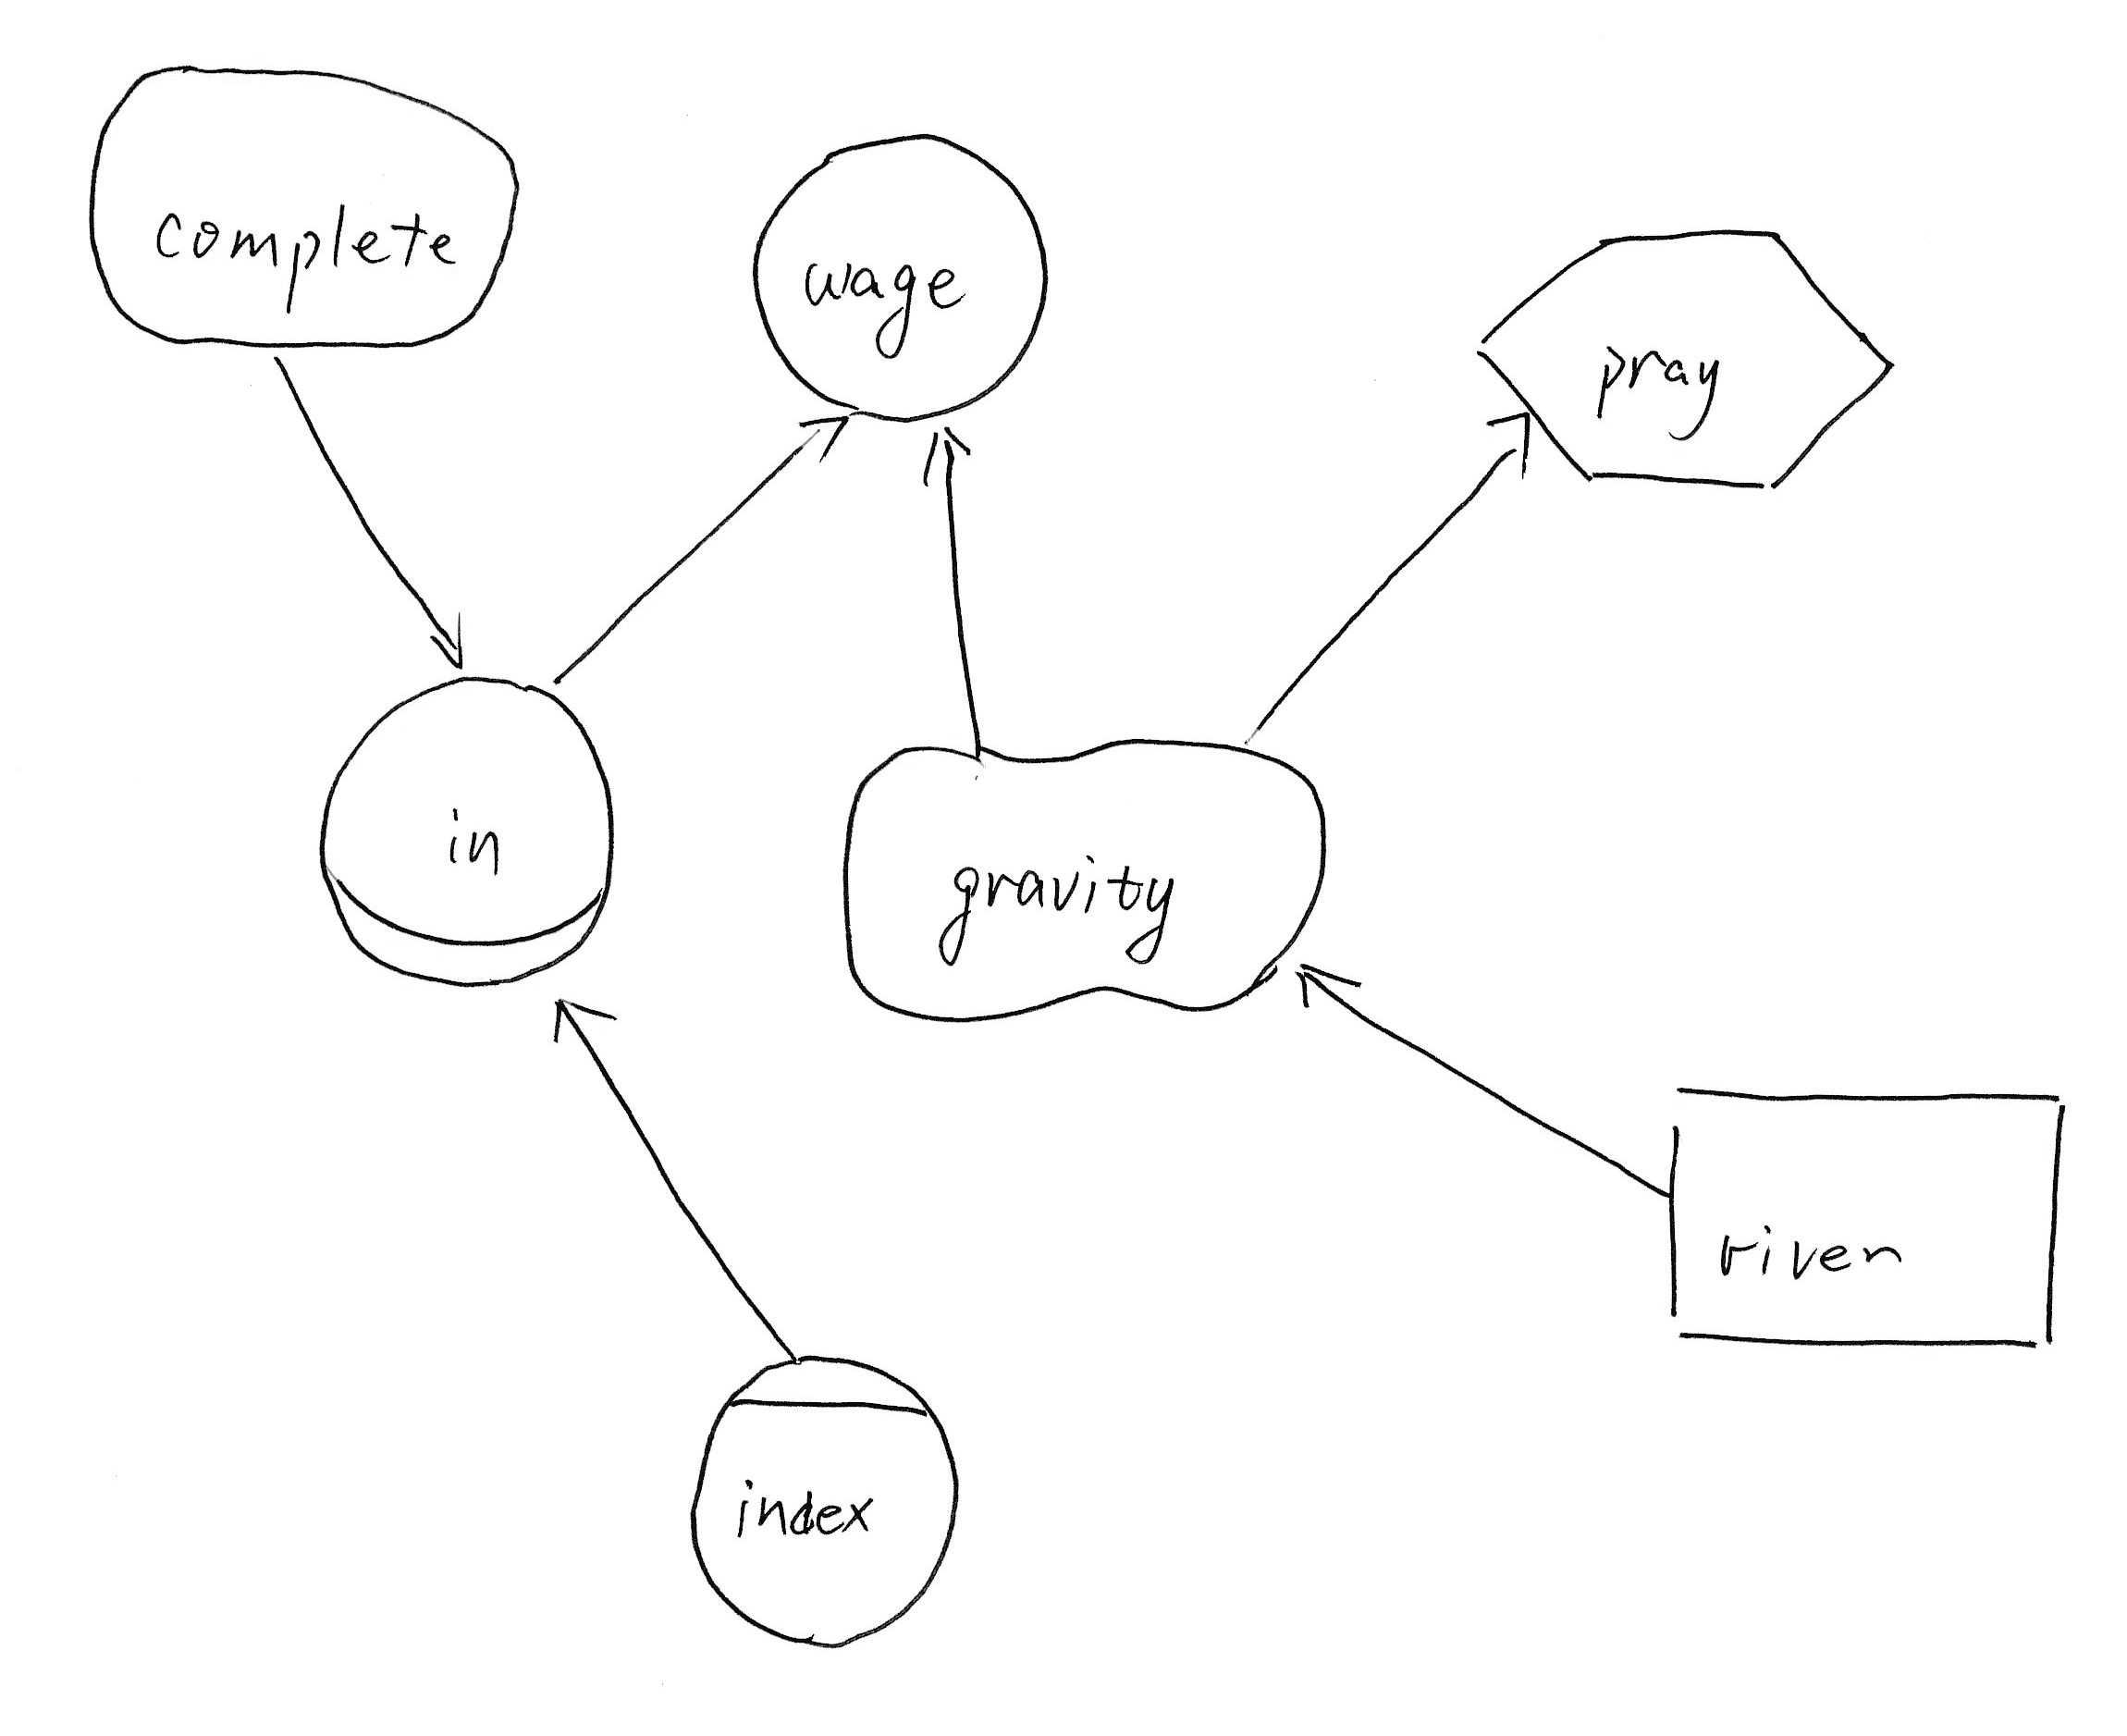actor: (731, 118, 1058, 433)
agent: (671, 1339, 973, 1660)
arrow: (1470, 403, 1548, 489), (903, 417, 982, 498), (535, 985, 622, 1056), (1288, 954, 1366, 1026), (783, 401, 857, 472), (406, 609, 486, 675)
goal: (74, 49, 530, 366)
quality: (825, 724, 1344, 1038)
resource: (1646, 1054, 2083, 1369)
role: (304, 662, 627, 1007)
task: (1454, 205, 1913, 505)
